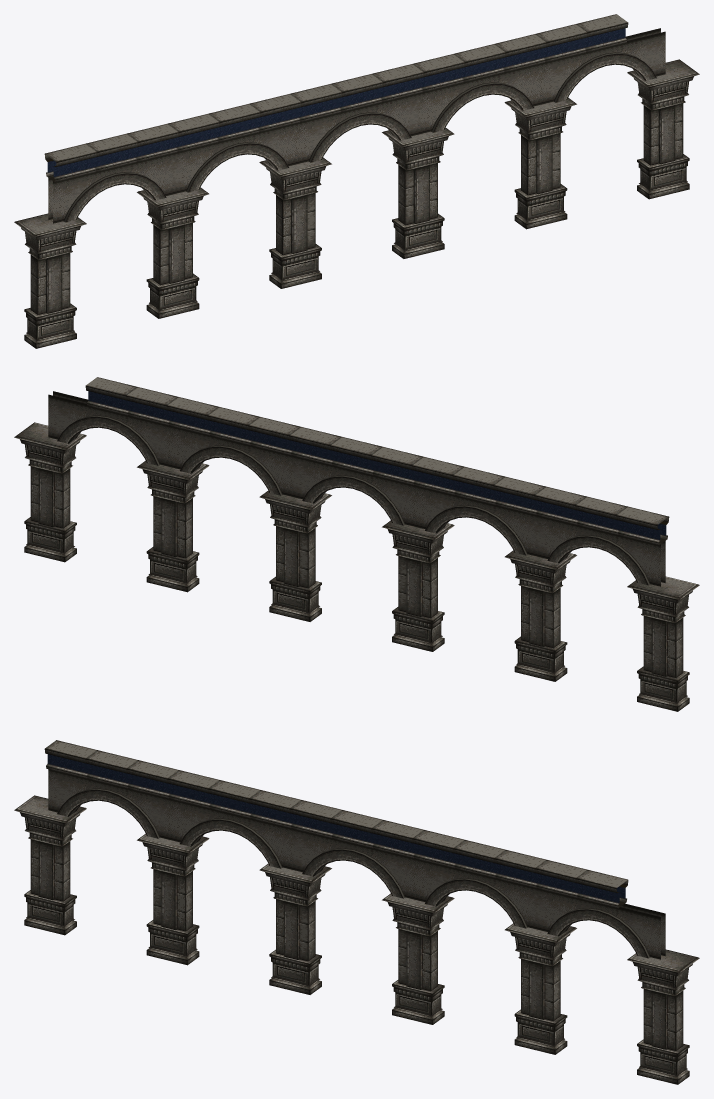
Rendered from EnvBdgMD_Courthouse_A_Indoor_Arch_1F.FBX.
3 renders of one model, top to bottom at view 1: azimuth 30°, elevation 25°; view 2: azimuth 150°, elevation 25°; view 3: azimuth 330°, elevation 25°, orthographic.
Visible parts, largest first — view 1: EnvBdgMD_Courthouse_A_Indoor_Arch_1F; view 2: EnvBdgMD_Courthouse_A_Indoor_Arch_1F; view 3: EnvBdgMD_Courthouse_A_Indoor_Arch_1F.
Part boxes in pixels (left/top/right/bottom): EnvBdgMD_Courthouse_A_Indoor_Arch_1F: left=14, top=14, right=699, bottom=348; EnvBdgMD_Courthouse_A_Indoor_Arch_1F: left=14, top=377, right=699, bottom=711; EnvBdgMD_Courthouse_A_Indoor_Arch_1F: left=14, top=740, right=699, bottom=1084.
Size of the model in its own units: 3260 by 850 by 170.
